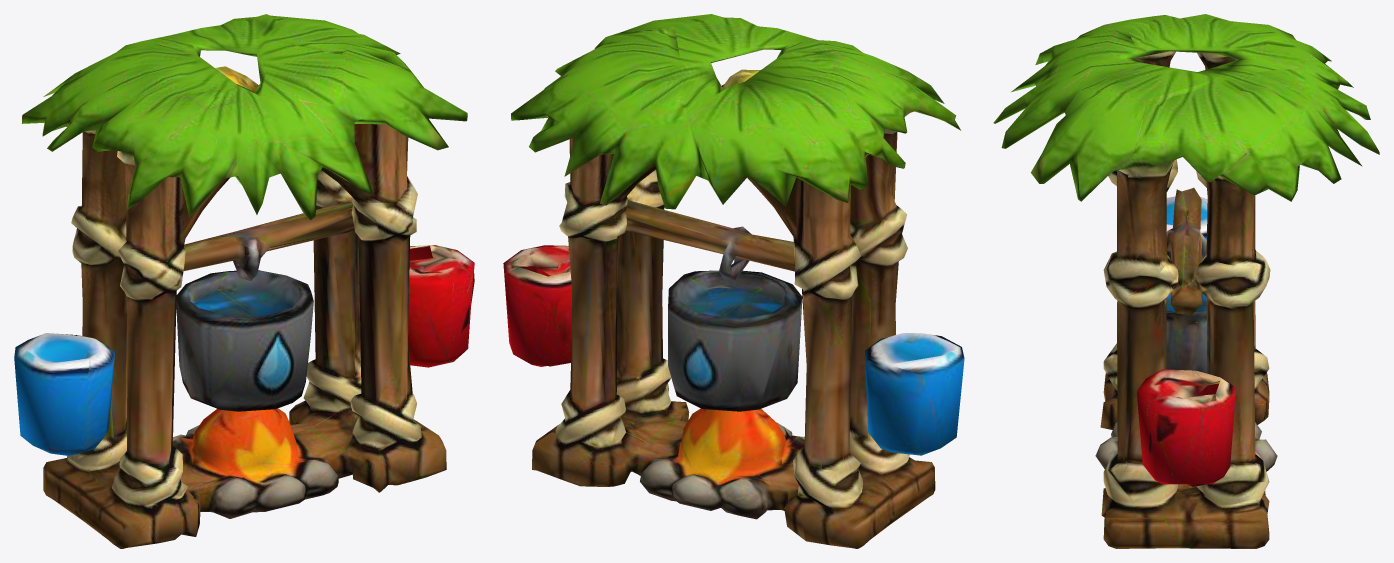
File: purifier.glb
3 views of the same model, side by side, from view 1: azimuth 30°, elevation 25°; view 2: azimuth 150°, elevation 25°; view 3: azimuth 270°, elevation 25° (orthographic). The views are drawn at different scales.
Bounding box in the file's own units: 1.91 × 1.76 × 1.48.
Materials: 1 (1 with a texture image).
